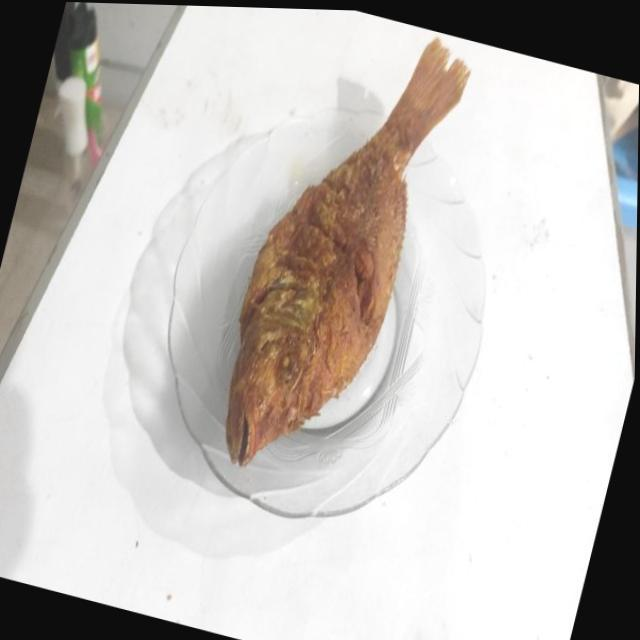ikan_mujair: (225, 39, 469, 465)
